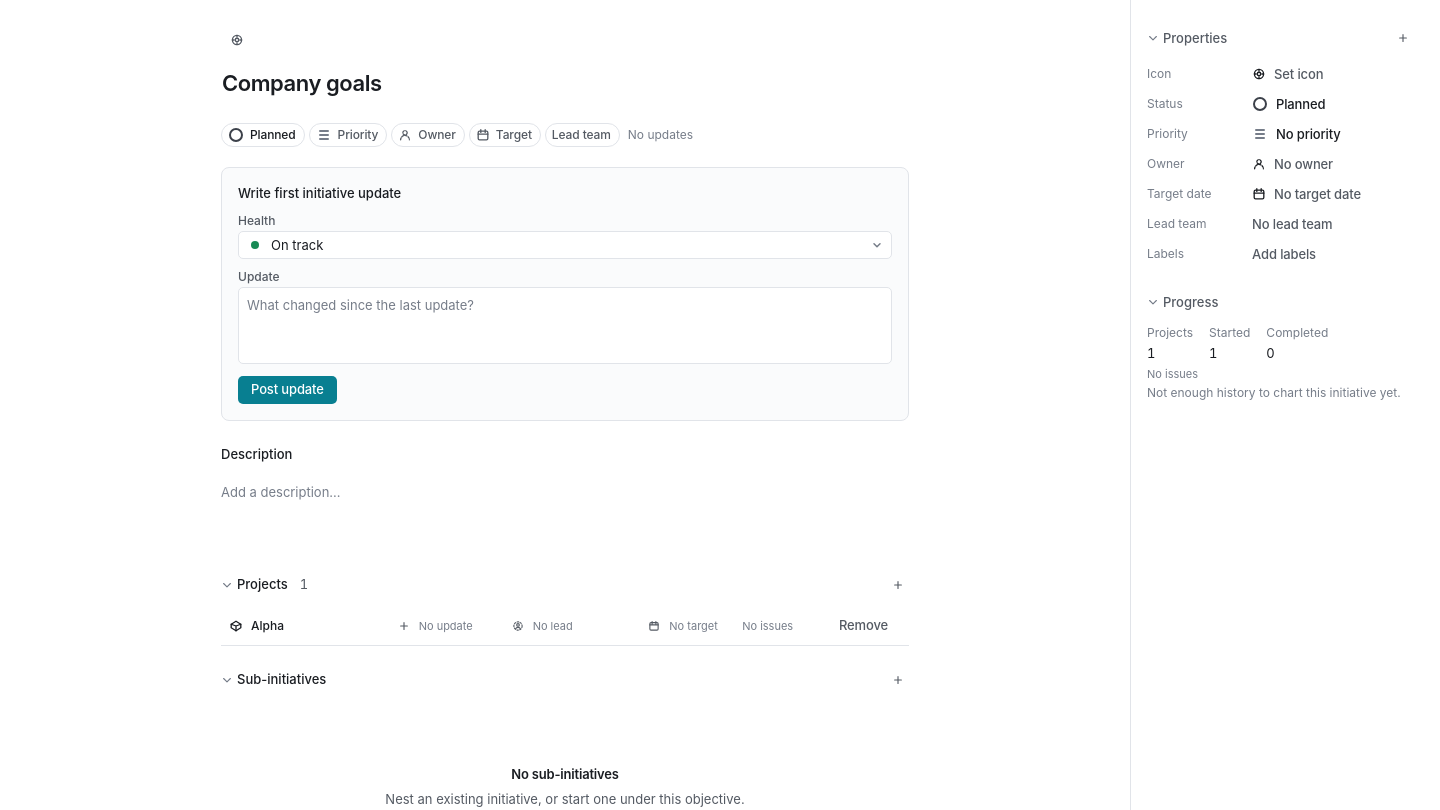
Test: a contributing project’s health › opens the project’s update composer rather than a menu of healths
The width and height of the screenshot is (1440, 810).
Click the button named "No health" at x=404, y=626, box [393, 615, 415, 637]
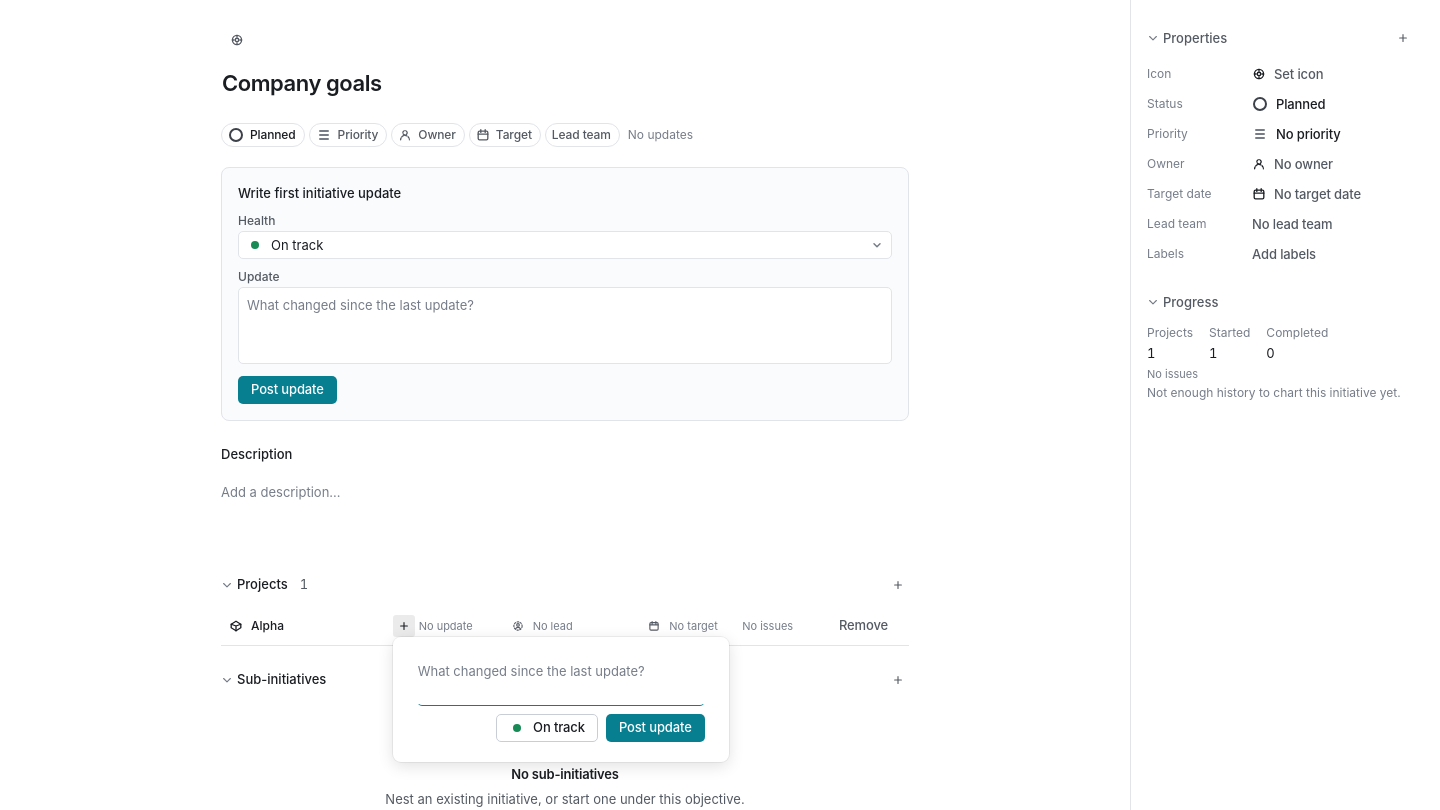
Result: the dialog named "Project update" is shown at [393, 637, 729, 762]
